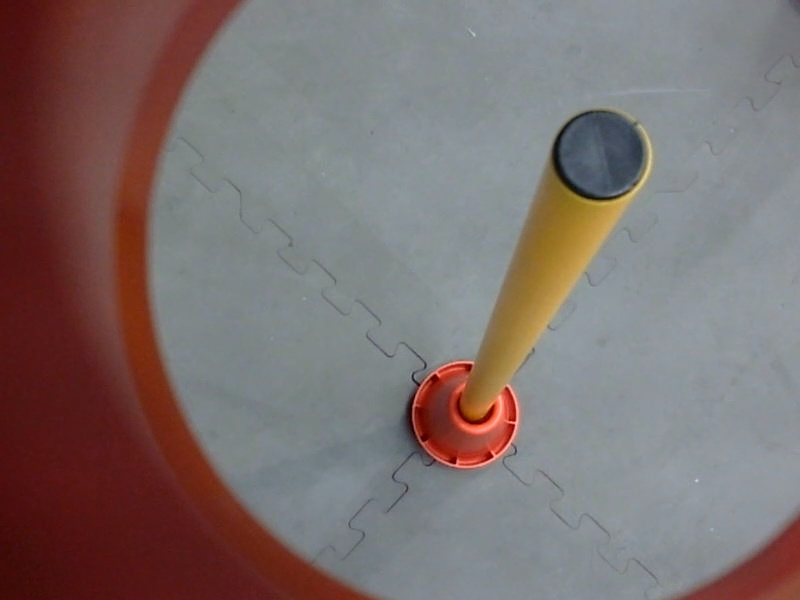tip: (543, 96, 660, 212)
